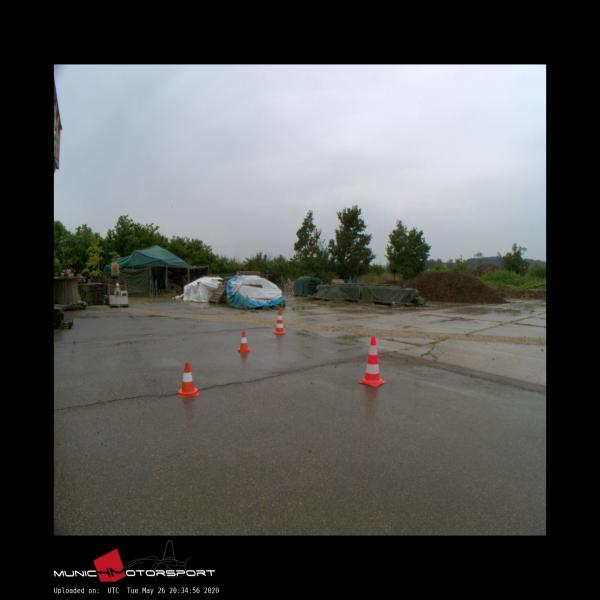large_orange_cone: (358, 336, 386, 386), (274, 308, 285, 334)
orange_cone: (178, 362, 198, 397), (237, 331, 251, 352)
